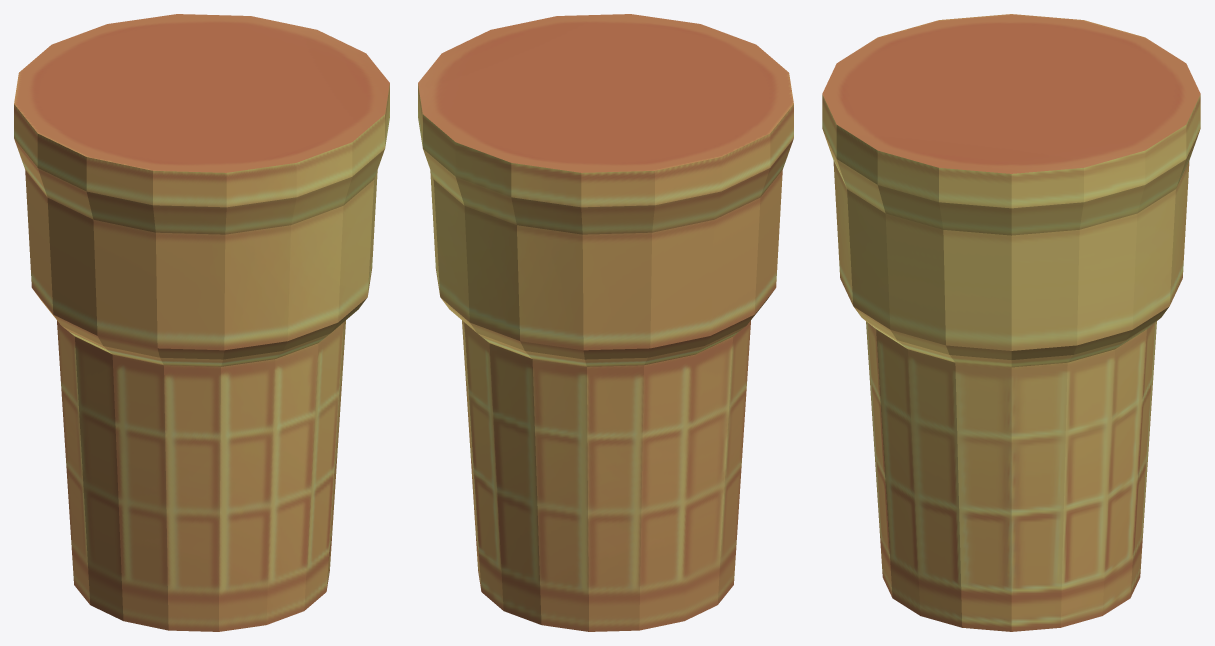
Rendered from cucurucho_2.fbx.
3 views of the same model, side by side, from view 1: azimuth 30°, elevation 25°; view 2: azimuth 150°, elevation 25°; view 3: azimuth 270°, elevation 25° (orthographic).
Visible parts, largest first — view 1: cucurucho2; view 2: cucurucho2; view 3: cucurucho2.
Boxes of the visible parts, x1=… form: cucurucho2: x1=14, y1=14, x2=389, y2=631; cucurucho2: x1=418, y1=14, x2=793, y2=631; cucurucho2: x1=822, y1=14, x2=1200, y2=631.
Size of the model in its own units: 119 by 168 by 119.
1 material, 1 textured.
